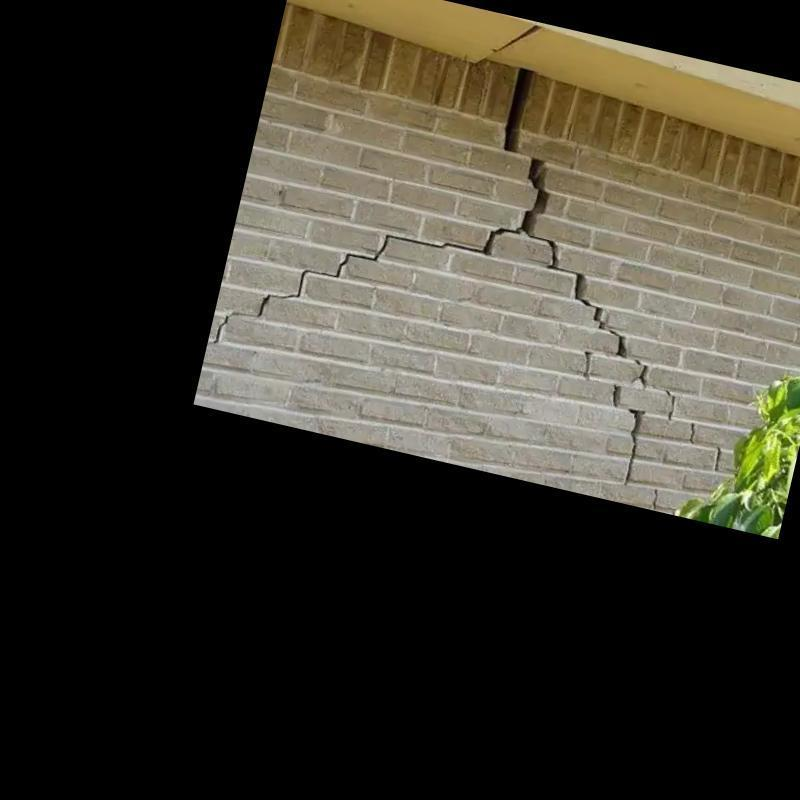crack: (258, 227, 521, 317), (528, 234, 606, 330), (519, 159, 549, 235), (505, 68, 532, 150), (624, 407, 646, 486), (213, 313, 232, 343), (609, 329, 627, 357), (631, 365, 649, 390), (666, 389, 676, 421), (714, 445, 723, 472), (584, 350, 592, 376), (613, 383, 621, 408), (652, 488, 660, 508), (690, 422, 697, 444), (635, 359, 643, 366)
